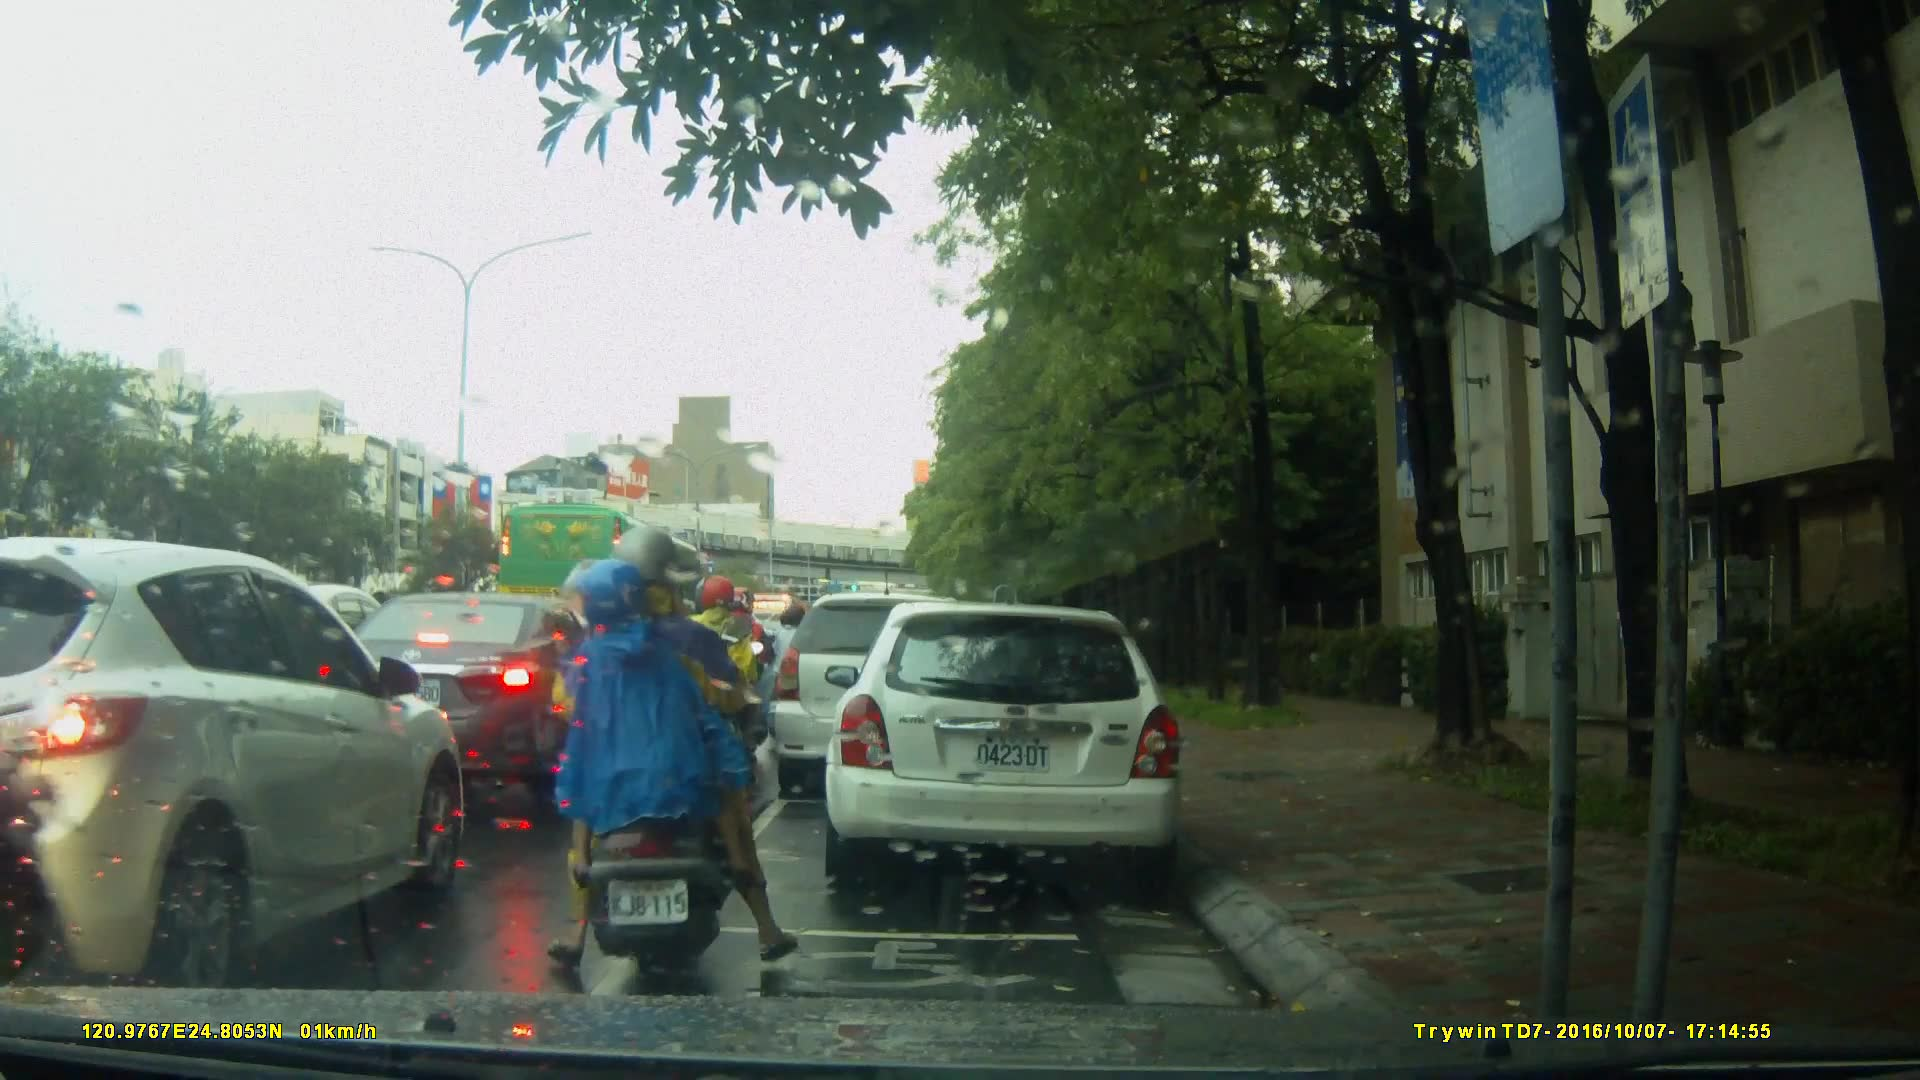rider: (520, 520, 809, 988), (681, 573, 766, 806), (718, 592, 776, 750), (773, 598, 818, 725)
vehicle: (5, 535, 470, 988), (831, 592, 1196, 897), (315, 589, 629, 776), (770, 590, 999, 804), (498, 503, 713, 636)
